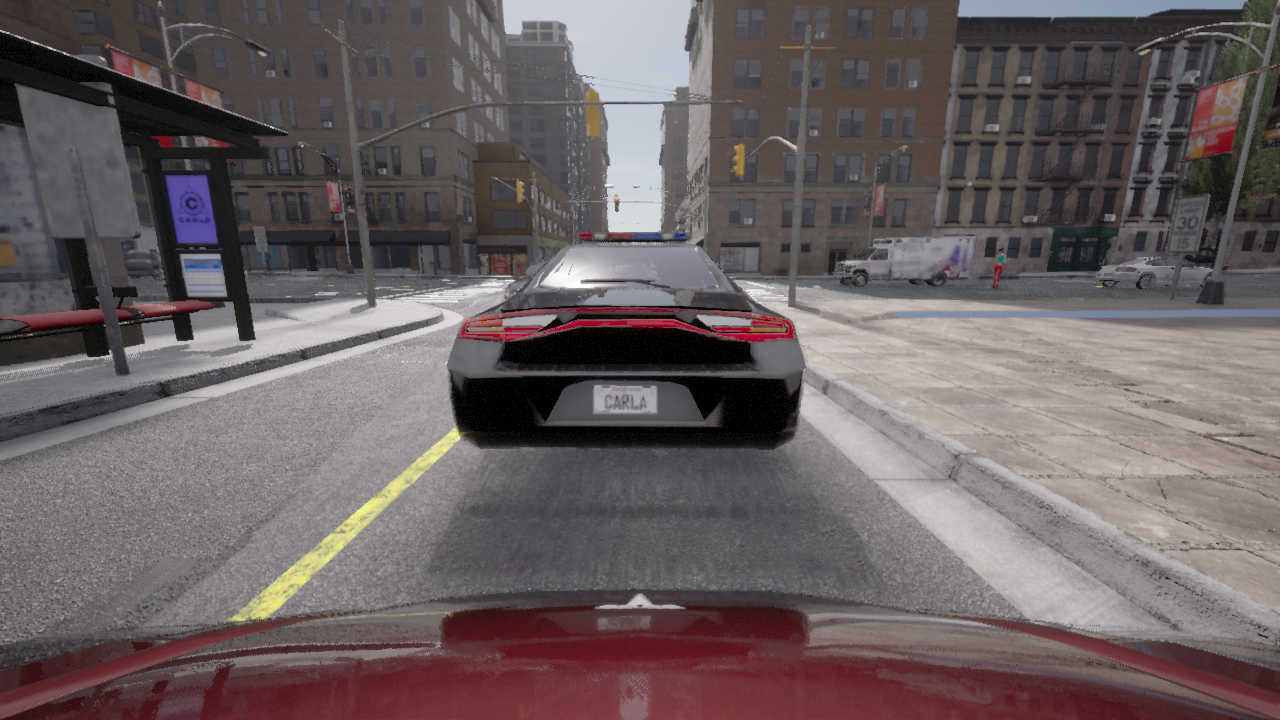cyclist: (0, 588, 1279, 719), (446, 232, 806, 448), (834, 236, 974, 286), (1094, 255, 1223, 289), (504, 257, 551, 300), (1156, 246, 1215, 267)
pedestrian: (990, 248, 1005, 288)
